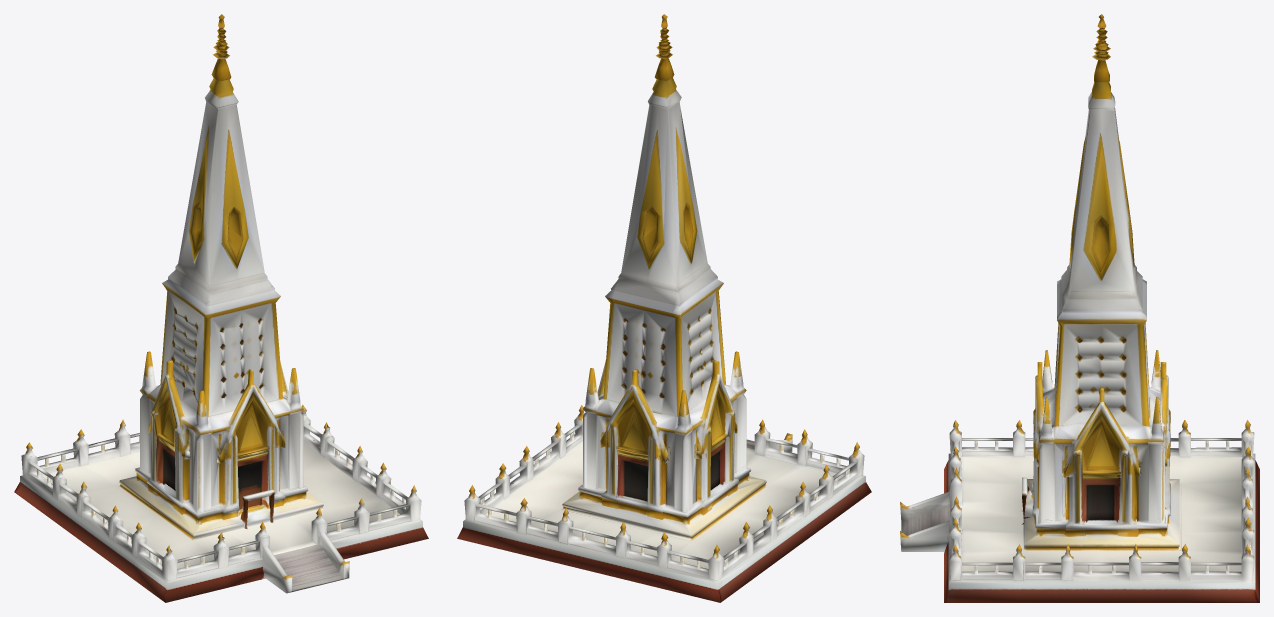
Rendered from watnuea.glb.
The picture shows the model from 3 angles, left to right: view 1: azimuth 30°, elevation 25°; view 2: azimuth 150°, elevation 25°; view 3: azimuth 270°, elevation 25°; orthographic projection. The views are drawn at different scales.
Parts seen in each view (by area): view 1: tripo_node_1f2769ab-243d-4223-8f35-19bc17ea1def; view 2: tripo_node_1f2769ab-243d-4223-8f35-19bc17ea1def; view 3: tripo_node_1f2769ab-243d-4223-8f35-19bc17ea1def.
Boxes of the visible parts, x1,y1,x2,y2 form: tripo_node_1f2769ab-243d-4223-8f35-19bc17ea1def: (14,14,428,602); tripo_node_1f2769ab-243d-4223-8f35-19bc17ea1def: (457,14,871,602); tripo_node_1f2769ab-243d-4223-8f35-19bc17ea1def: (900,14,1259,602).
Size of the model in its own units: 0.5367 by 0.9759 by 0.6092.
Materials: 1 (1 with a texture image).
